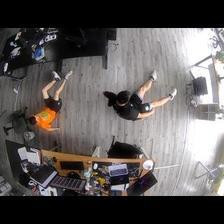fall: (104, 69, 177, 121), (27, 70, 76, 130)
